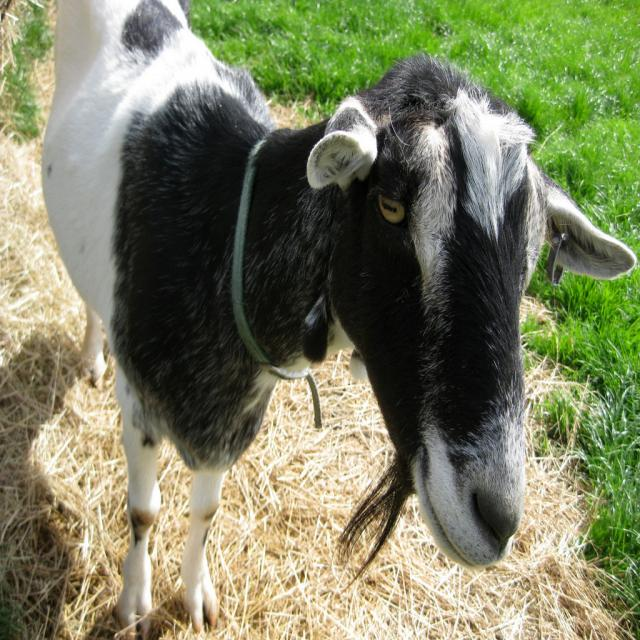Goat: (42, 3, 637, 639)
